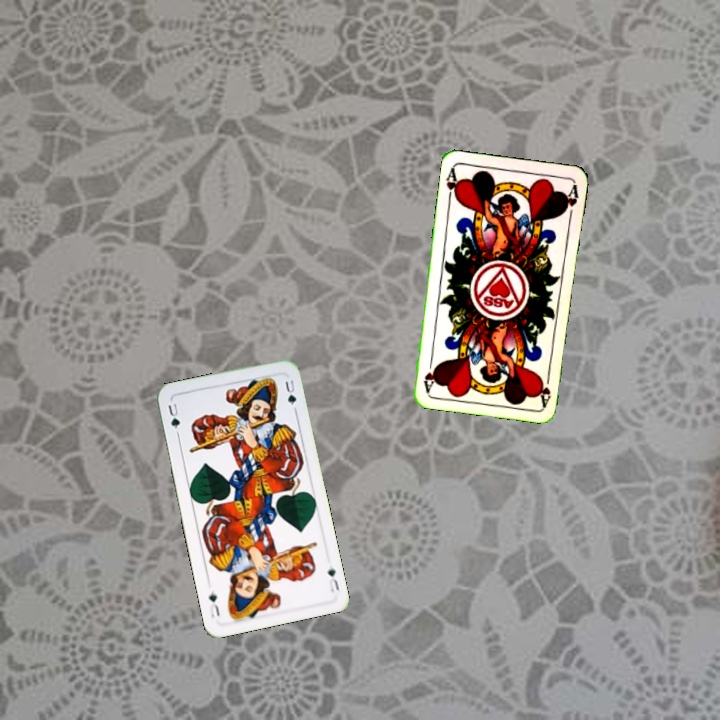GU: (164, 399, 183, 437), (324, 564, 342, 594)
HA: (442, 164, 462, 205), (536, 367, 554, 408)
